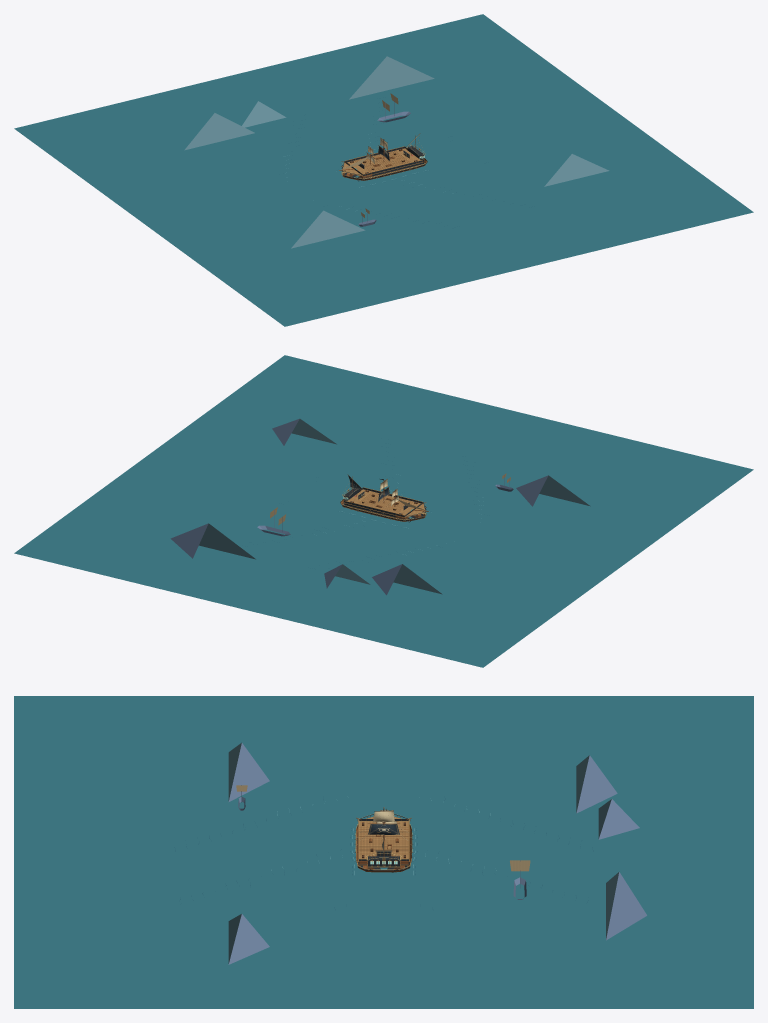
The model's file is blackflag_visual.glb.
The picture shows the model from 3 angles, top to bottom: view 1: azimuth 30°, elevation 25°; view 2: azimuth 150°, elevation 25°; view 3: azimuth 270°, elevation 25°; orthographic projection. The views are drawn at different scales.
Visible parts, largest first — view 1: DETAIL_chapter_craft, BATCH_ship; view 2: DETAIL_chapter_craft, BATCH_ship; view 3: DETAIL_chapter_craft, BATCH_ship, DETAIL_ship_sails.
Boxes of the visible parts, <box> form: DETAIL_chapter_craft: <box>14,14,753,326</box>; BATCH_ship: <box>344,146,423,178</box>; DETAIL_chapter_craft: <box>14,355,753,667</box>; BATCH_ship: <box>344,487,423,519</box>; DETAIL_chapter_craft: <box>14,696,753,1008</box>; BATCH_ship: <box>358,818,409,864</box>; DETAIL_ship_sails: <box>359,808,408,857</box>.
Bounding box in the file's own units: 500 × 33.07 × 500.
22 materials, 11 textured.
